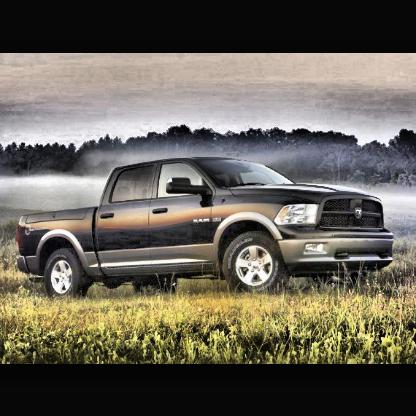Dodge Ram Pickup 3500 Quad Cab 2009: (19, 159, 394, 300)
